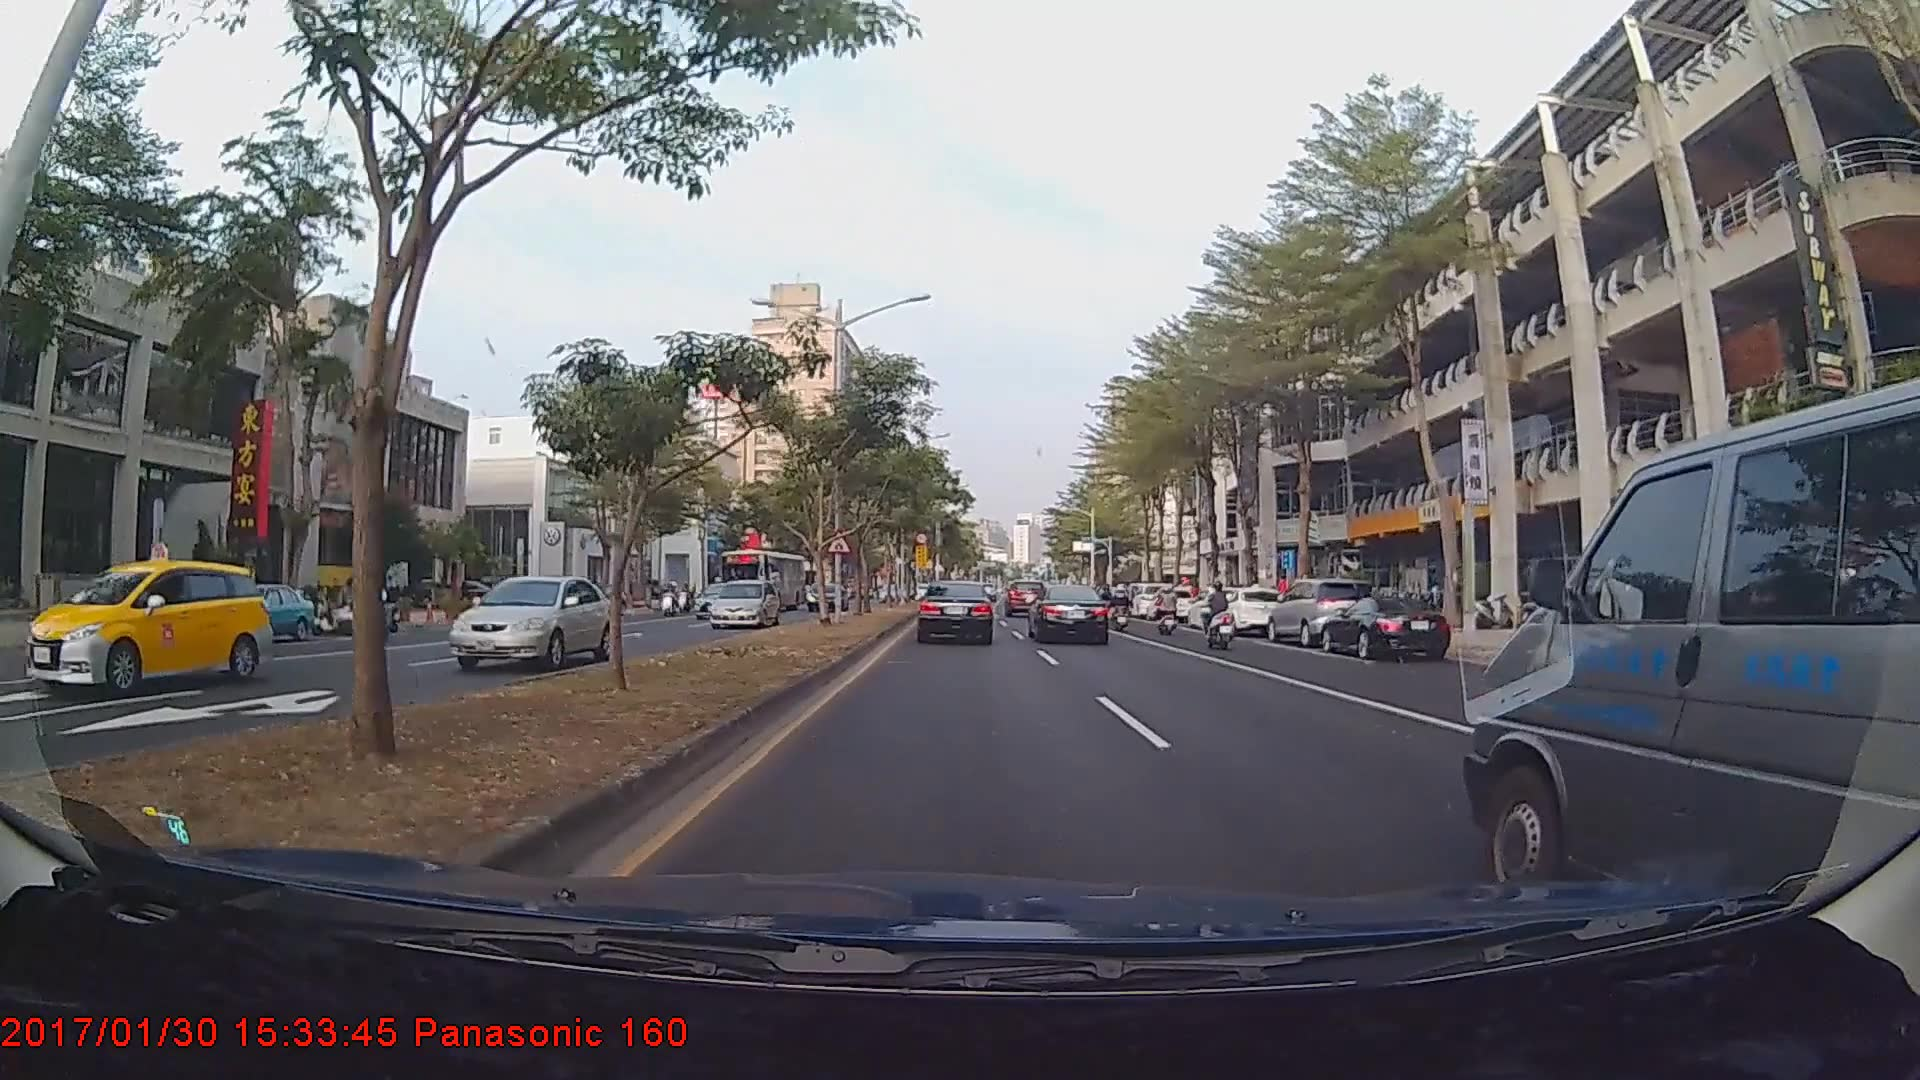rider: (1199, 581, 1241, 655), (1149, 582, 1184, 641), (1109, 584, 1133, 635)
vehicle: (1485, 409, 1915, 897), (21, 557, 274, 695), (445, 574, 613, 668), (1318, 595, 1452, 659), (1270, 577, 1380, 650), (716, 548, 807, 615), (216, 583, 315, 640), (914, 580, 996, 645), (1028, 582, 1111, 645), (705, 578, 782, 628), (1212, 585, 1284, 636), (1183, 584, 1243, 627), (690, 582, 743, 618), (1004, 577, 1049, 615), (805, 580, 850, 612)
